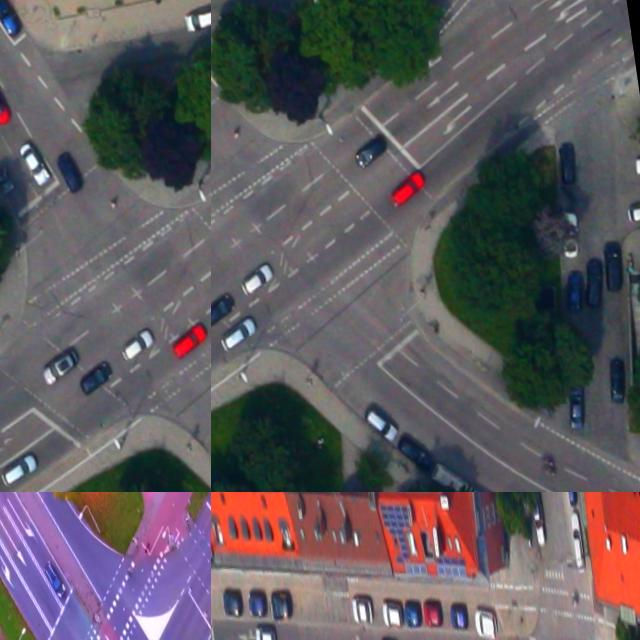UAI: (15, 138, 53, 191), (37, 346, 83, 389), (395, 429, 436, 477), (386, 168, 429, 210), (168, 321, 211, 361), (216, 315, 260, 354), (0, 451, 41, 489), (117, 327, 157, 365), (236, 261, 276, 299), (599, 239, 627, 293), (579, 256, 608, 308), (428, 457, 471, 492), (77, 360, 116, 396), (364, 405, 399, 445), (54, 150, 84, 196), (603, 356, 630, 406), (351, 133, 388, 169), (558, 210, 584, 260), (41, 557, 67, 601), (565, 383, 588, 429), (555, 141, 579, 185), (211, 291, 238, 328), (564, 271, 587, 314), (569, 513, 586, 571), (529, 492, 546, 545), (0, 0, 23, 39), (473, 606, 499, 640), (183, 5, 211, 33), (222, 586, 245, 619), (270, 589, 294, 619), (351, 597, 374, 626), (448, 599, 469, 630), (422, 598, 444, 627), (382, 601, 404, 629), (247, 588, 268, 617), (0, 80, 12, 128), (404, 600, 423, 627), (463, 481, 505, 492), (0, 166, 15, 195), (253, 623, 277, 640), (563, 492, 579, 507)
